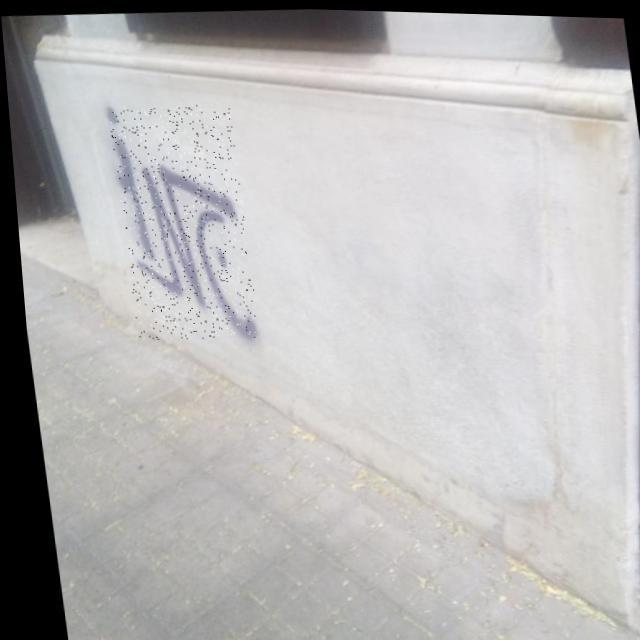-: (106, 100, 255, 342)
